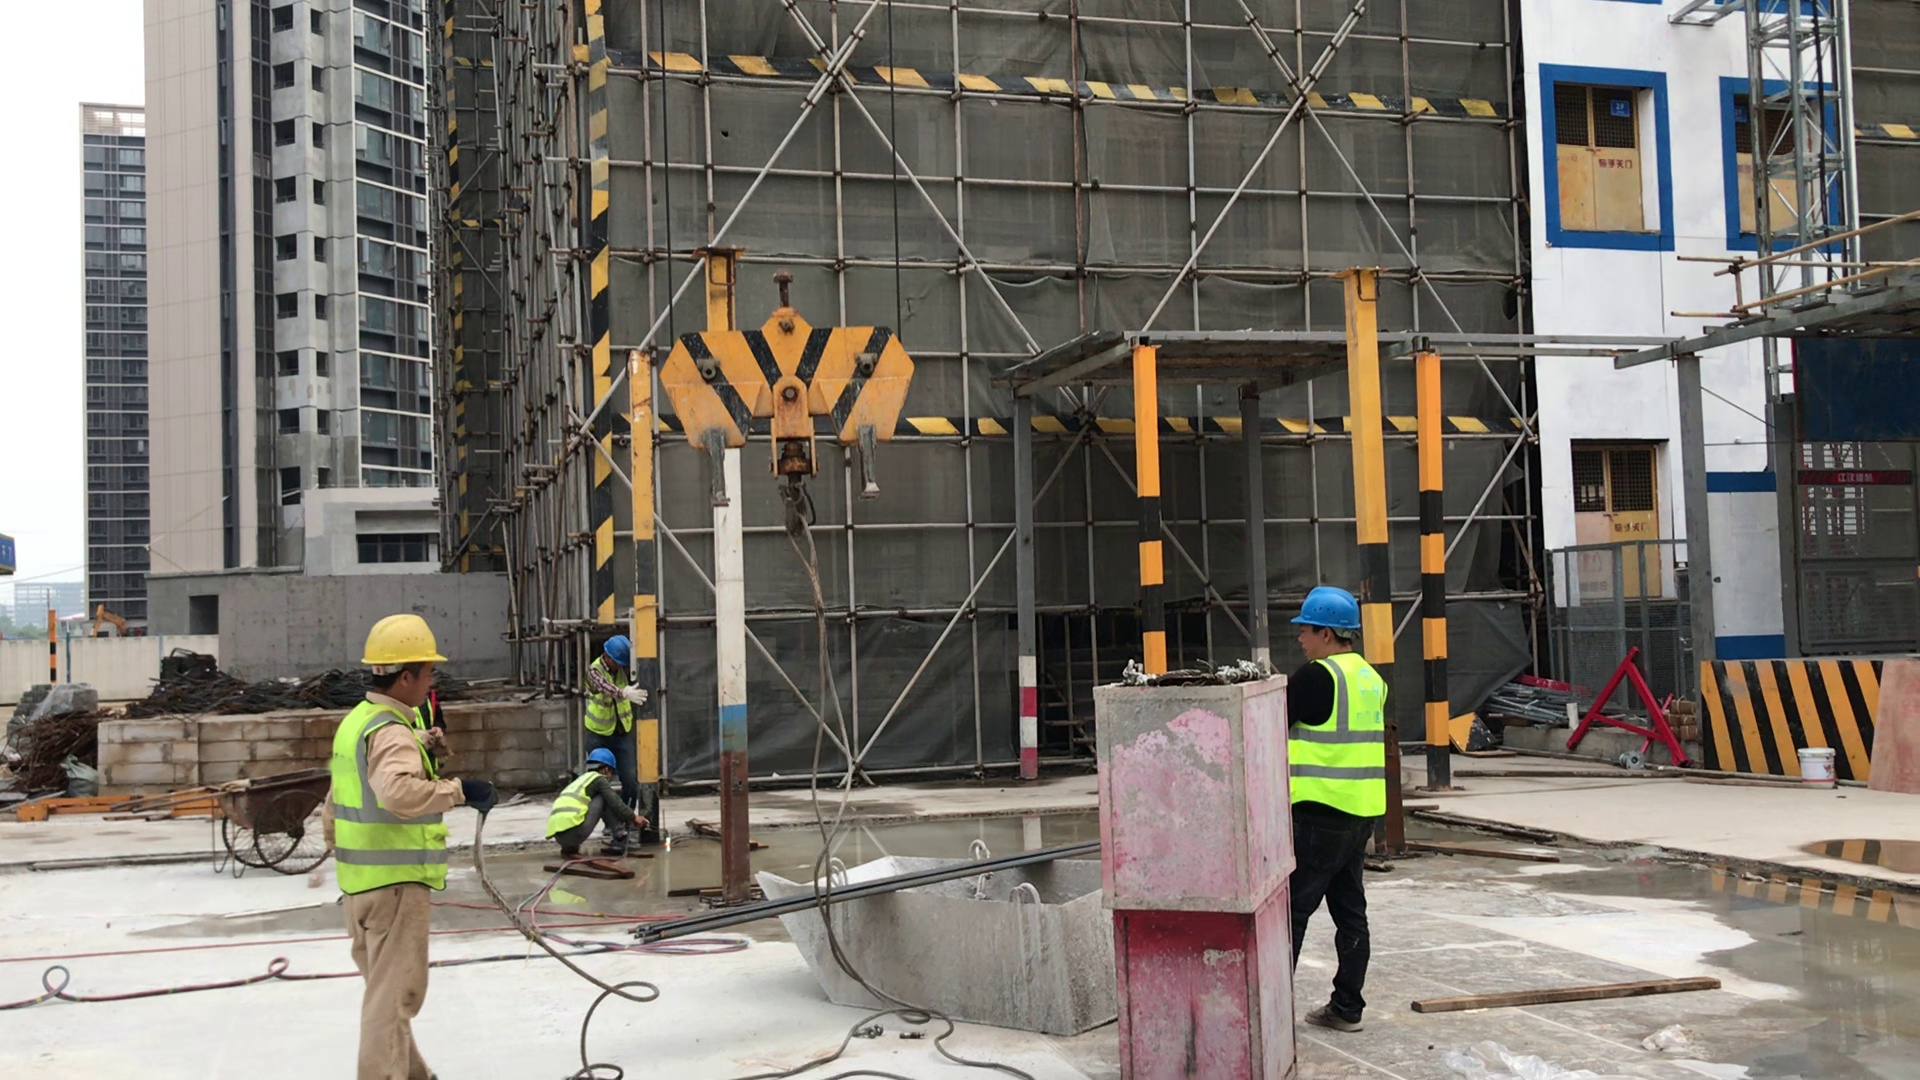handcart: (188, 759, 341, 899)
helmet: (352, 608, 454, 679), (1283, 581, 1382, 639), (578, 739, 624, 774), (602, 627, 638, 666)
hook: (625, 257, 946, 549)
hopper: (745, 814, 1134, 1039)
person: (1274, 581, 1427, 1042), (324, 610, 472, 1080), (547, 742, 647, 883), (581, 631, 642, 770)
rebar: (623, 839, 1098, 947)
slogan: (1, 522, 27, 589)
vest: (328, 695, 444, 910), (1288, 656, 1409, 816), (579, 660, 646, 745), (543, 769, 606, 851), (415, 703, 447, 734)
